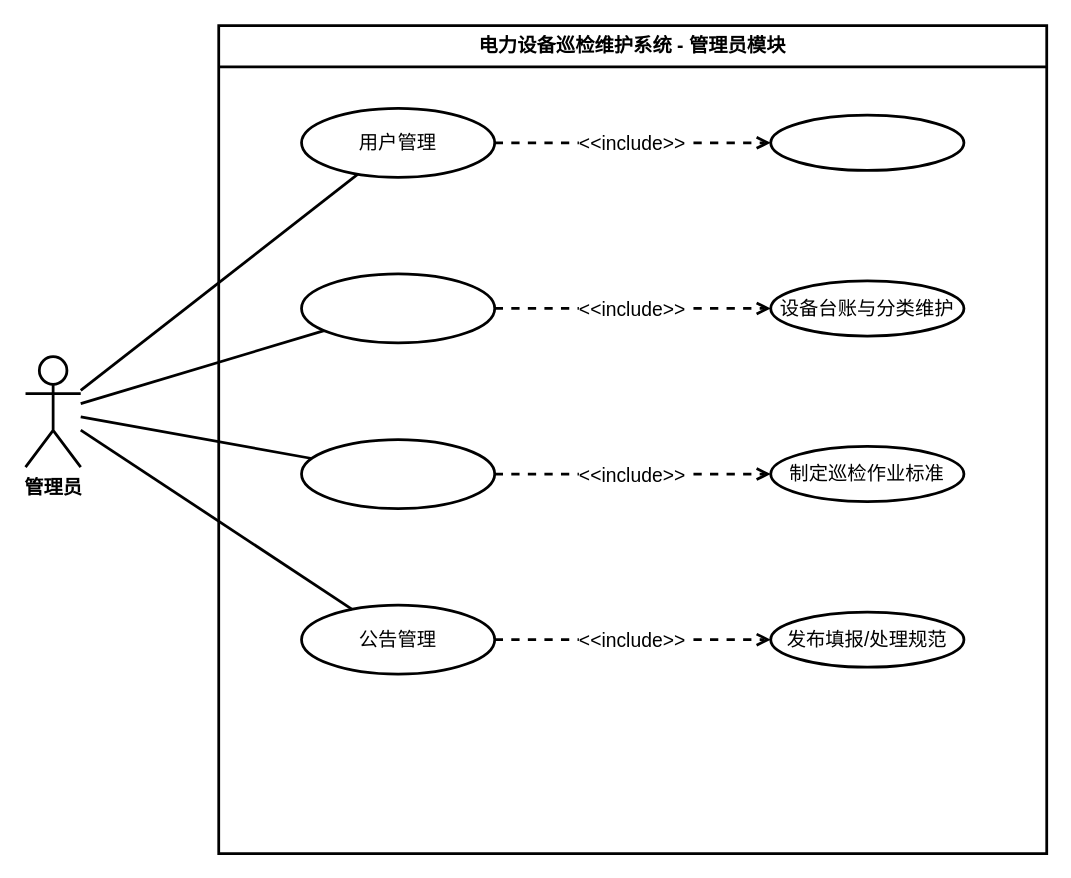
The diagram is 1071 pixels wide and 878 high, and some of its shapes have lost their labels. The shapes that lost their labels are listed below. From the top down, each one's centre as x and y in pixels, then its label:
[867,142]: 添加/配置系统用户
[397,308]: 设备管理
[397,473]: 标准管理
